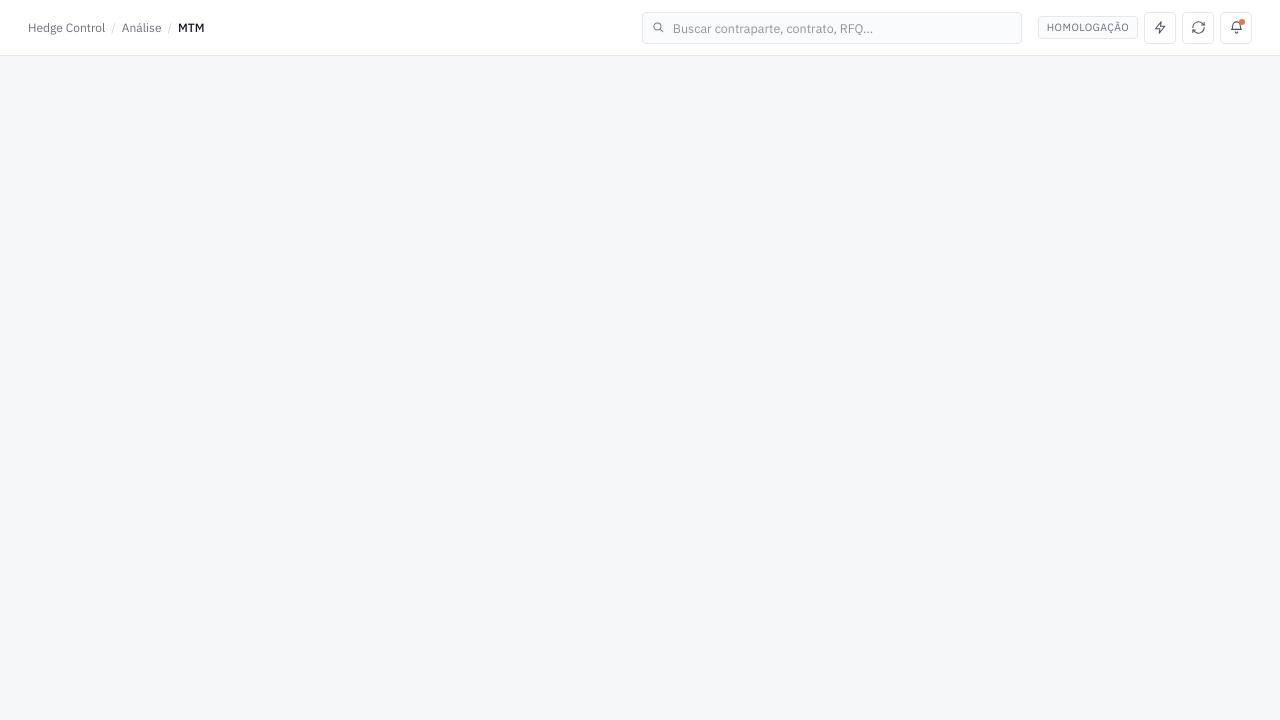
Test: institutional foundation components › separates global search from quick actions and makes breadcrumbs navigable
Focus the search field named "Busca global": [832, 28] box [642,12,1022,44]
Expected: the dialog "Ações rápidas" is not shown
In the search field named "Busca global": [832, 28] box [642,12,1022,44], type "rfq"
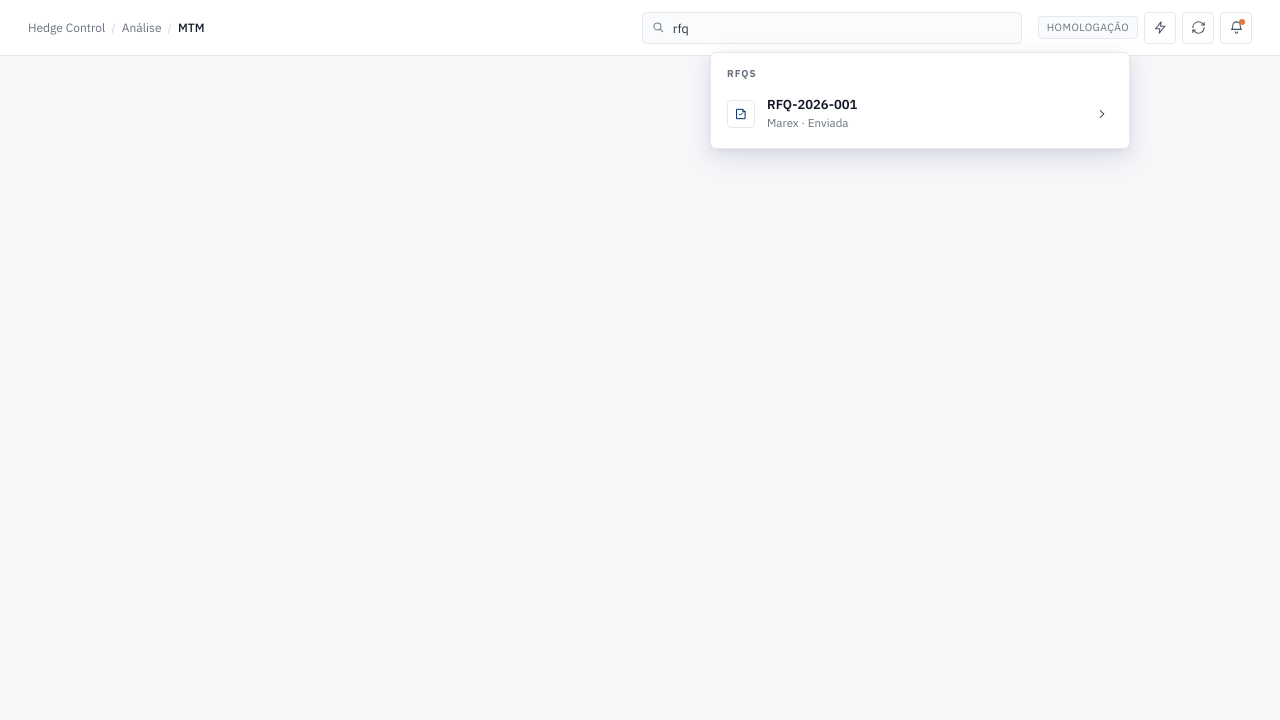
Expected: the element named "Resultados da busca" is shown, [710,52,1130,149]
Click the button named "Ações rápidas": [1160, 28] box [1144,12,1176,44]
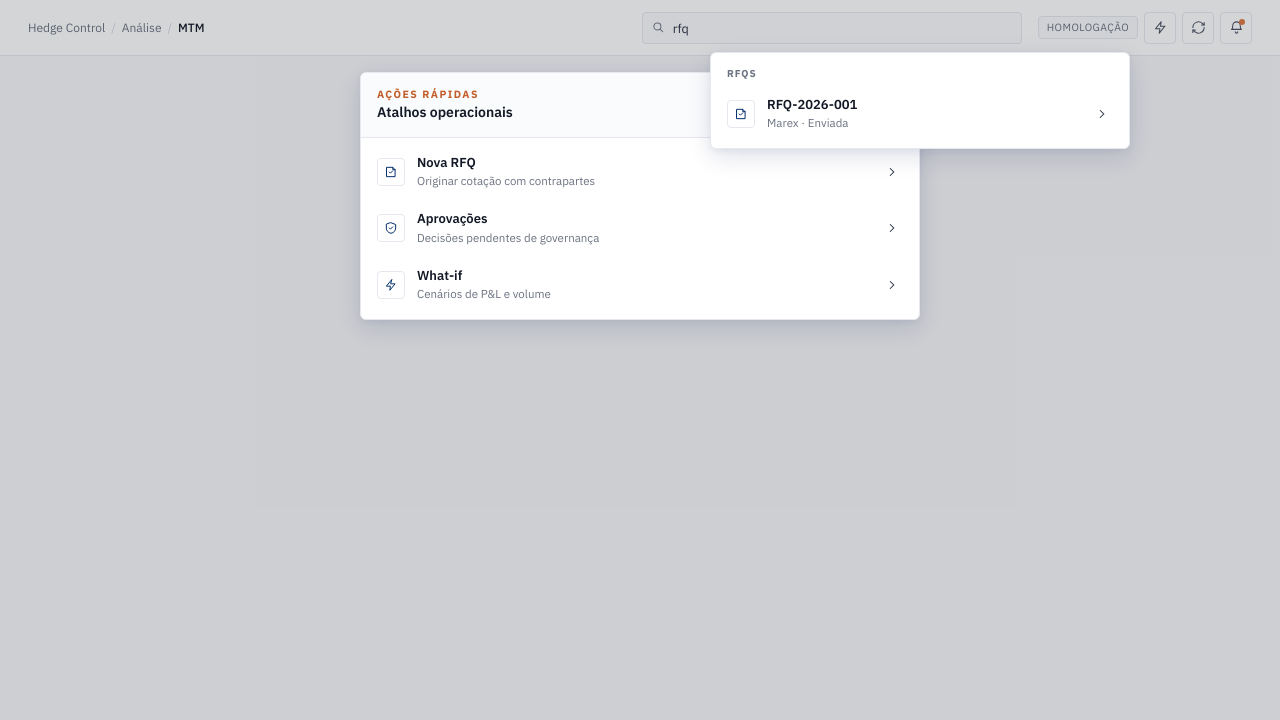
Expected: the dialog "Ações rápidas" is shown, [360,72,920,320]
